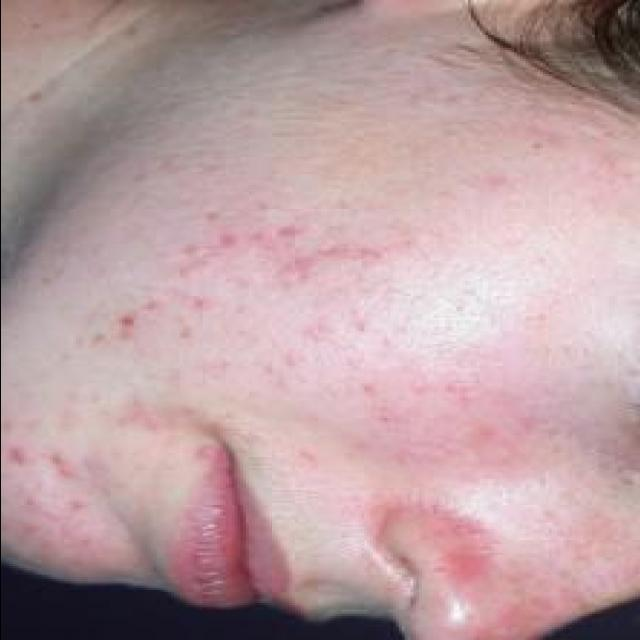Acne: (46, 451, 80, 479), (1, 442, 34, 468), (270, 222, 312, 240), (212, 230, 244, 252)
